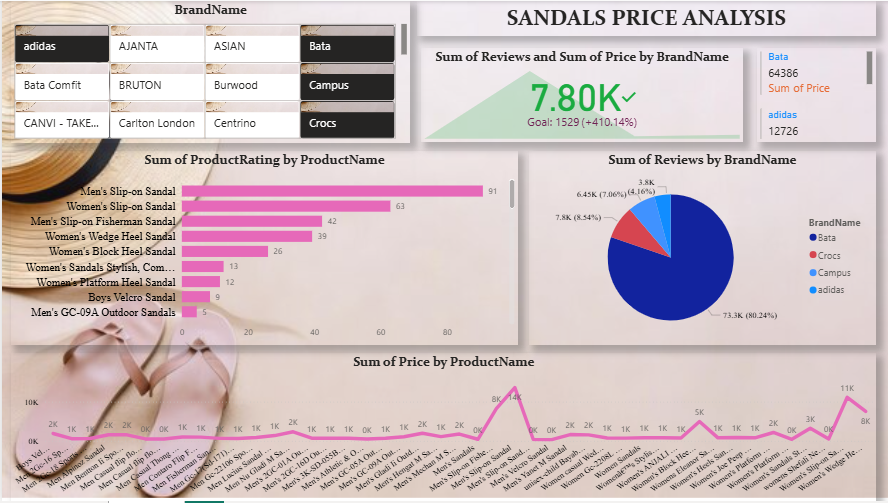

The dashboard page shown, as its layout file describes it:
{"tool":"powerbi","page":{"name":"Page 1","canvas":[1280,720],"ordinal":0},"visuals":[{"type":"advancedSlicerVisual","fields":{"Values":["amazonsandals sandals.BrandName"]},"box":[12.5,0,575,203.6],"z":0},{"type":"clusteredBarChart","fields":{"Category":["amazonsandals sandals.ProductName"],"Y":["Sum(amazonsandals sandals.ProductRating)"]},"box":[12.5,216.1,730.4,278.6],"z":1000},{"type":"pieChart","fields":{"Category":["amazonsandals sandals.BrandName"],"Y":["Sum(amazonsandals sandals.Reviews)"]},"box":[758.9,216.1,500,278.6],"z":2000},{"type":"kpi","fields":{"Indicator":["Sum(amazonsandals sandals.Reviews)"],"Goal":["Sum(amazonsandals sandals.Price)"],"TrendLine":["amazonsandals sandals.BrandName"]},"box":[603.6,67.9,464.3,135.7],"z":3000},{"type":"multiRowCard","fields":{"Values":["amazonsandals sandals.BrandName","Sum(amazonsandals sandals.Price)"]},"box":[1087.5,67.9,171.4,135.7],"z":4000},{"type":"lineChart","fields":{"Category":["amazonsandals sandals.ProductName"],"Y":["Sum(amazonsandals sandals.Price)"]},"box":[12.5,507.1,1246.4,212.5],"z":5000},{"type":"textbox","box":[598.2,0,660.7,50],"z":6000}]}

Visuals, with their boxes in screenshot pixels (x1, y1, x2, y2), scaled from the page's 1280x720 canvas onto the 888x503 screenshot:
advancedSlicerVisual - amazonsandals sandals.BrandName: x1=9, y1=0, x2=408, y2=142
clusteredBarChart - amazonsandals sandals.ProductName x Sum(amazonsandals sandals.ProductRating): x1=9, y1=151, x2=515, y2=346
pieChart - amazonsandals sandals.BrandName x Sum(amazonsandals sandals.Reviews): x1=526, y1=151, x2=873, y2=346
kpi - Sum(amazonsandals sandals.Reviews) x Sum(amazonsandals sandals.Price): x1=419, y1=47, x2=741, y2=142
multiRowCard - amazonsandals sandals.BrandName x Sum(amazonsandals sandals.Price): x1=754, y1=47, x2=873, y2=142
lineChart - amazonsandals sandals.ProductName x Sum(amazonsandals sandals.Price): x1=9, y1=354, x2=873, y2=502
textbox: x1=415, y1=0, x2=873, y2=35
